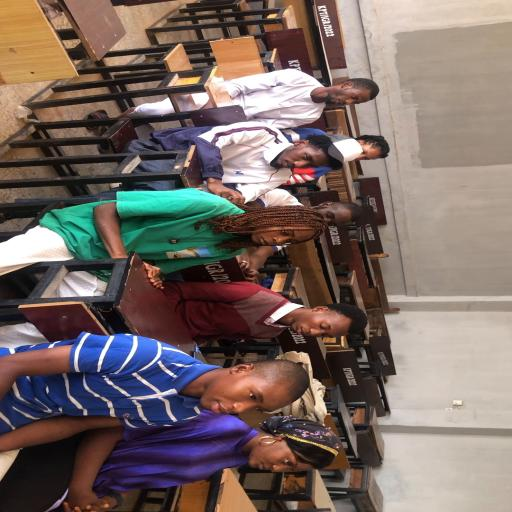Usingmobile: (0, 331, 312, 511)
